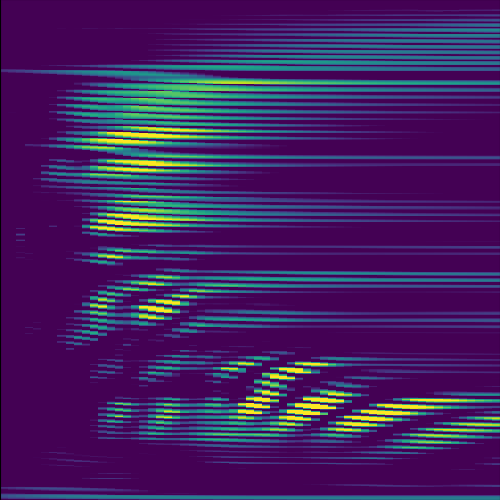semblance: (332, 385, 473, 444), (382, 391, 500, 455), (88, 269, 201, 327), (84, 192, 215, 238), (76, 112, 223, 152), (235, 358, 332, 418), (276, 379, 355, 438), (88, 151, 222, 177), (216, 352, 260, 374), (95, 246, 131, 264)
